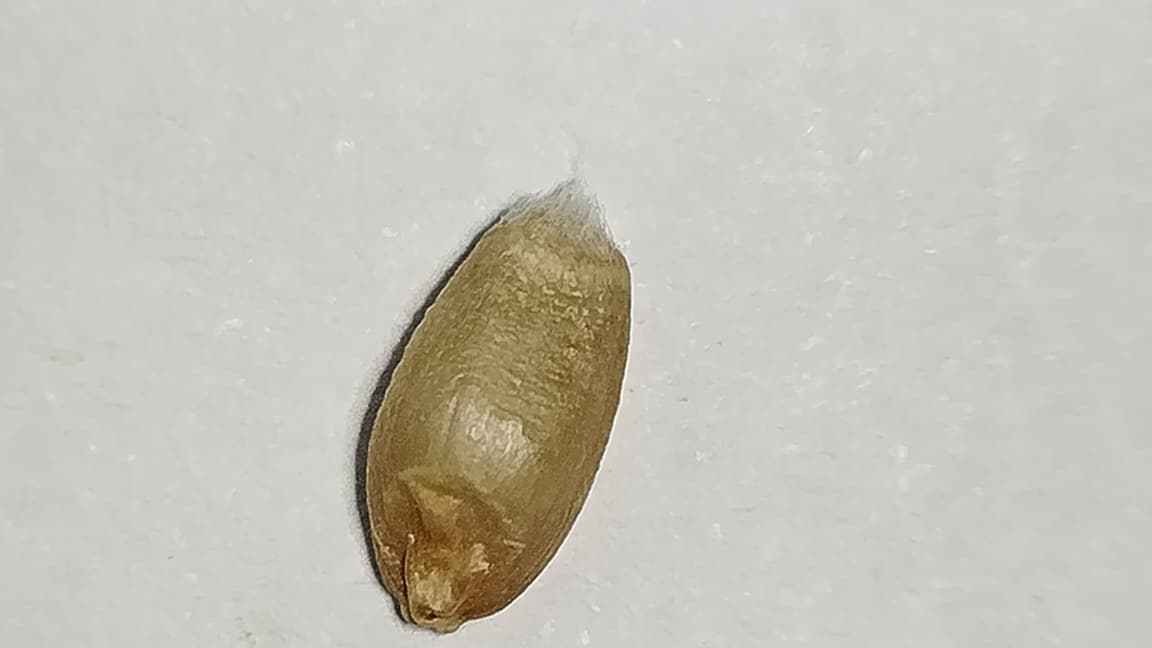healthy: (365, 196, 631, 626)
